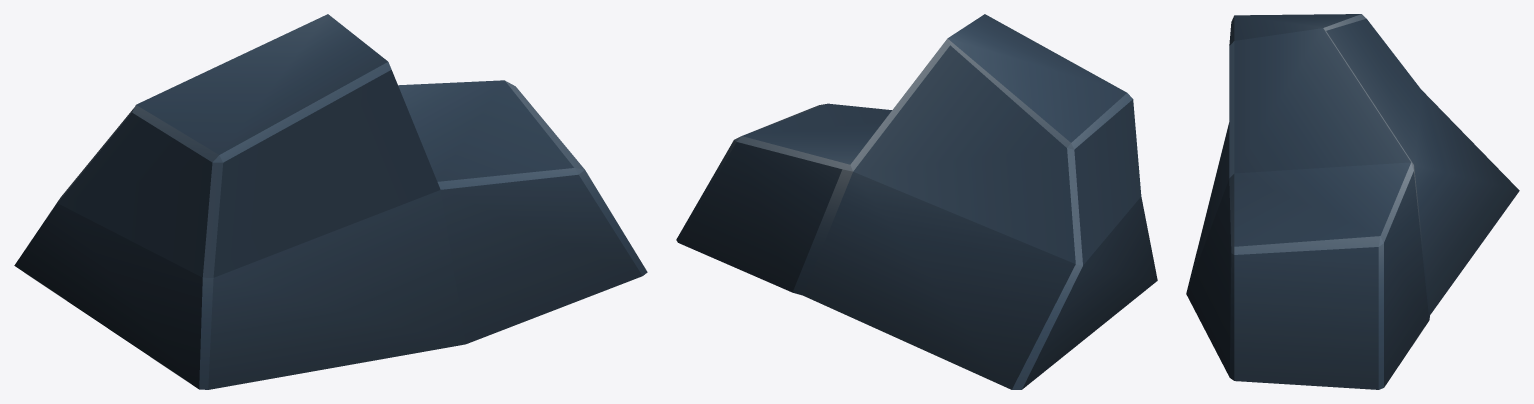
File: Rock_5.fbx
The picture shows the model from 3 angles, left to right: view 1: azimuth 30°, elevation 25°; view 2: azimuth 150°, elevation 25°; view 3: azimuth 270°, elevation 25°; orthographic projection. The views are drawn at different scales.
Parts seen in each view (by area): view 1: Rock_5; view 2: Rock_5; view 3: Rock_5.
Boxes of the visible parts, left/top/right/bottom form: Rock_5: left=14, top=14, right=647, bottom=389; Rock_5: left=676, top=14, right=1157, bottom=389; Rock_5: left=1186, top=14, right=1519, bottom=389.
Bounding box in the file's own units: 209 × 113 × 141.
